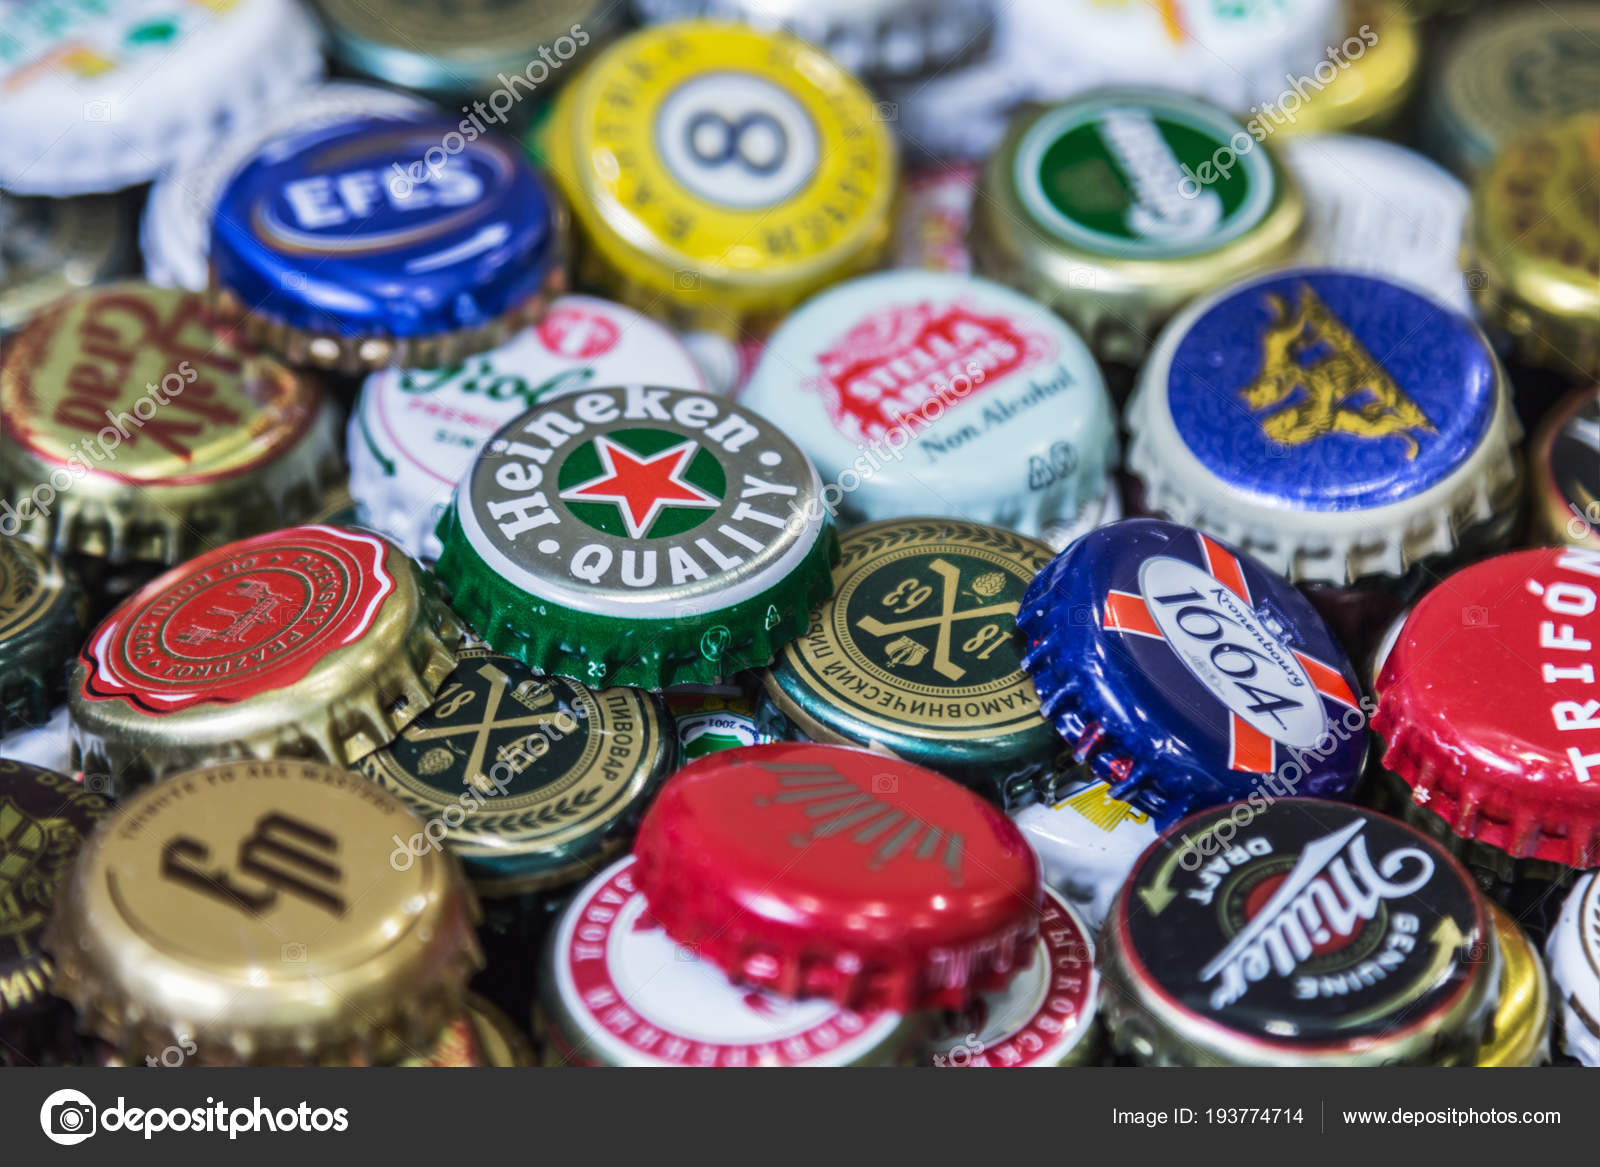heineken: (436, 372, 843, 674)
